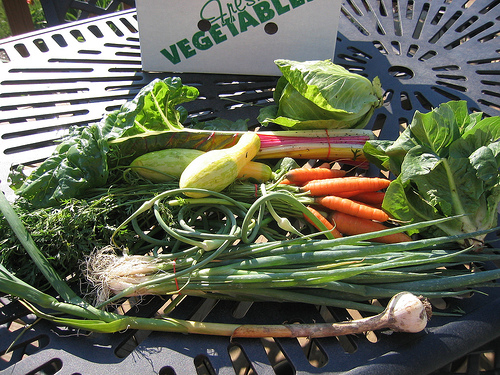cabbage: (254, 56, 386, 132)
